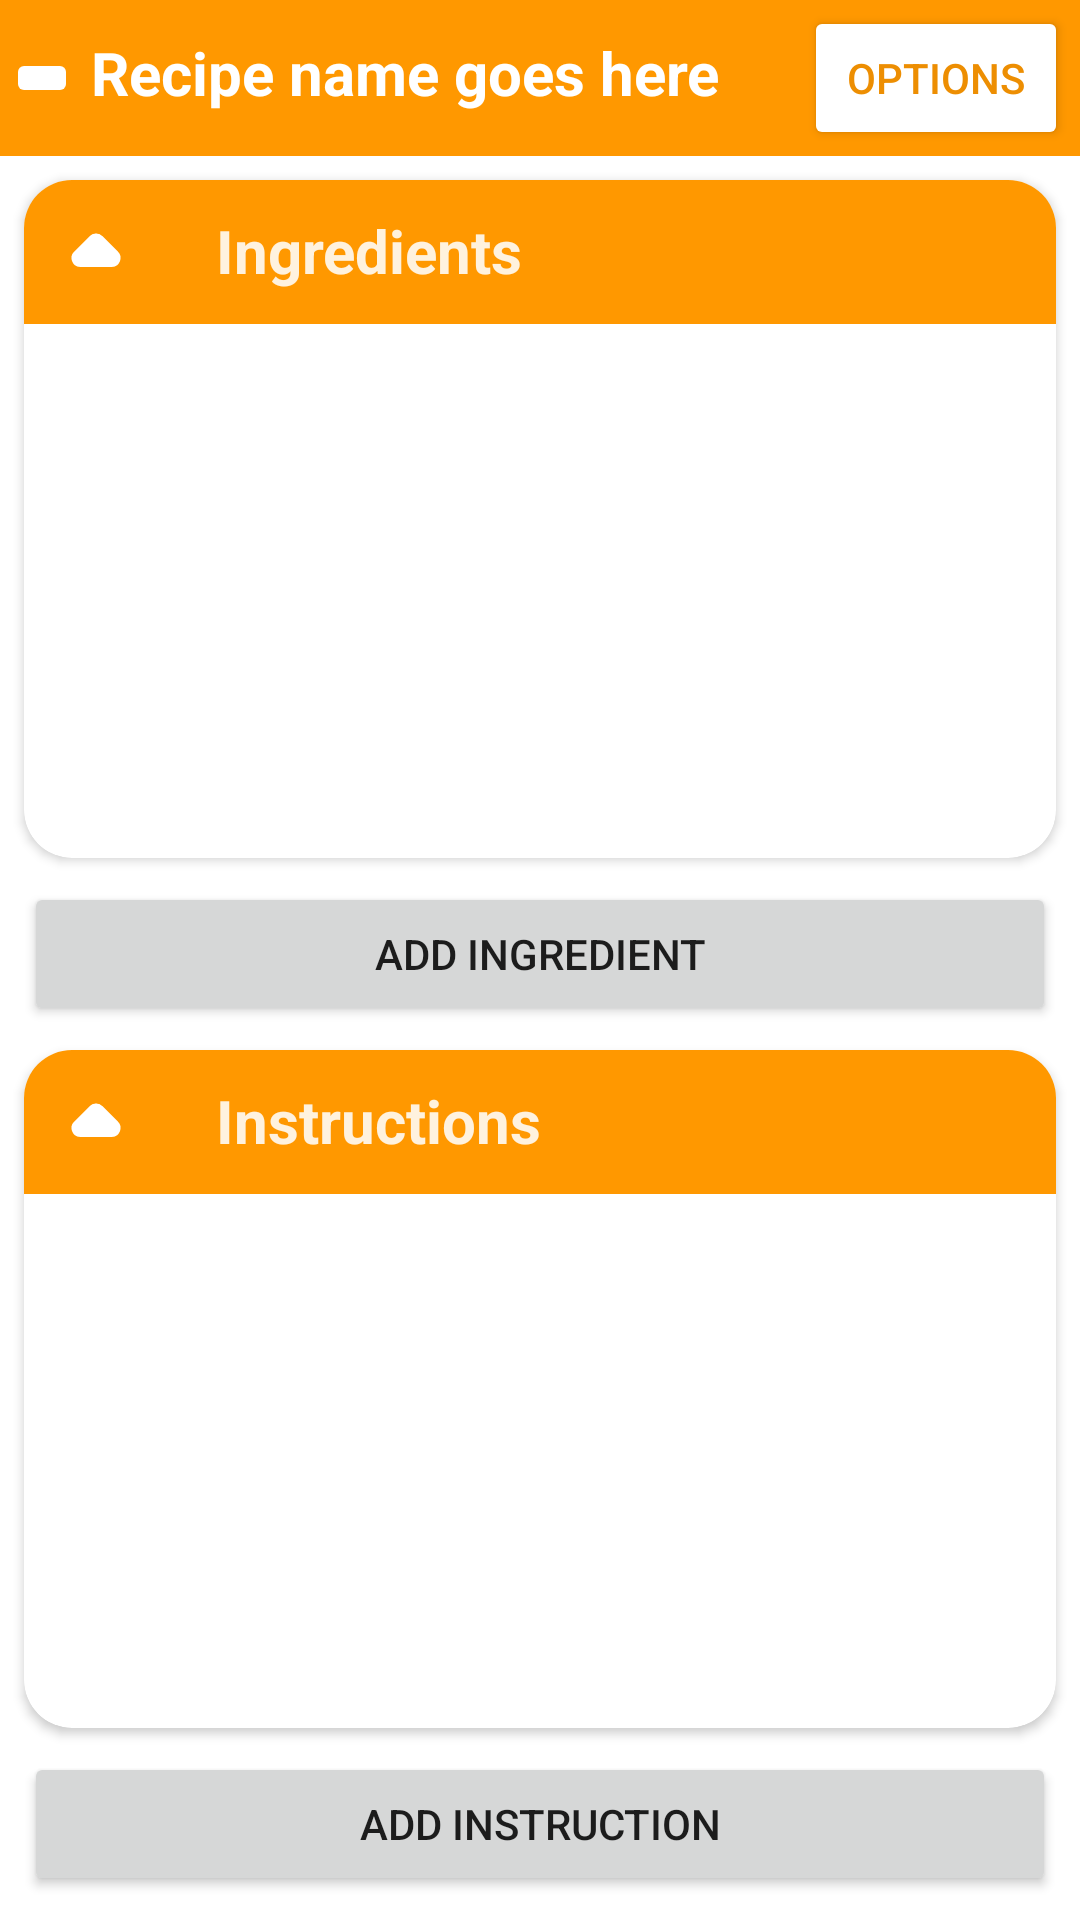

Where icons sit on this 1080w x 1920h app screen, as [x1=x1, y1=y1, x2=x2, y2=y2]:
arrow up: [x1=24, y1=180, x2=168, y2=324], [x1=24, y1=1050, x2=168, y2=1194]
